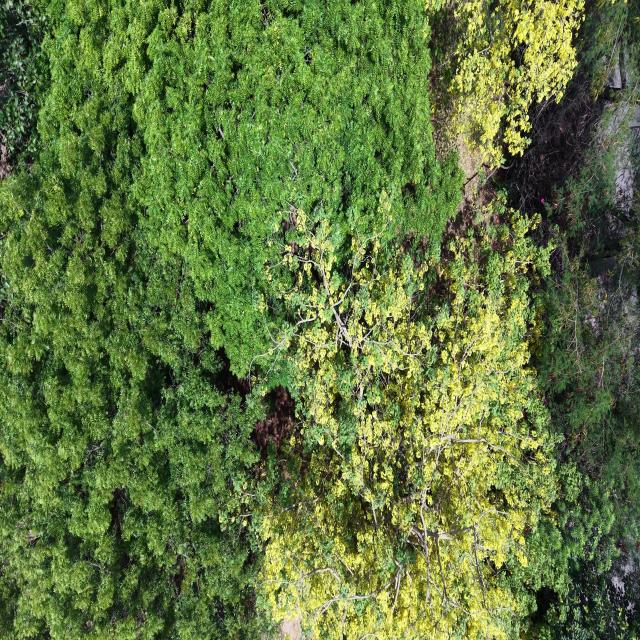DRY_AREA: (281, 617, 301, 639), (0, 144, 12, 179)
VEGETATION_TREE: (0, 0, 639, 639), (0, 2, 459, 638), (262, 194, 556, 638), (507, 3, 639, 638), (427, 0, 584, 168), (0, 0, 48, 177)
